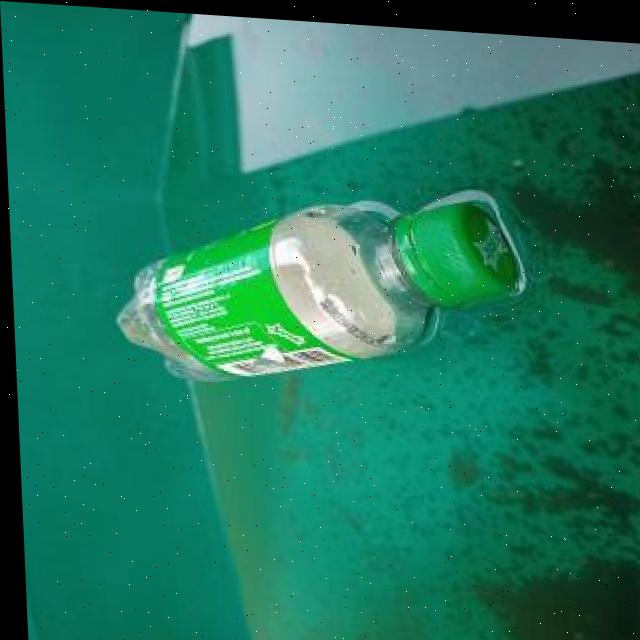bottle: (106, 173, 527, 399)
